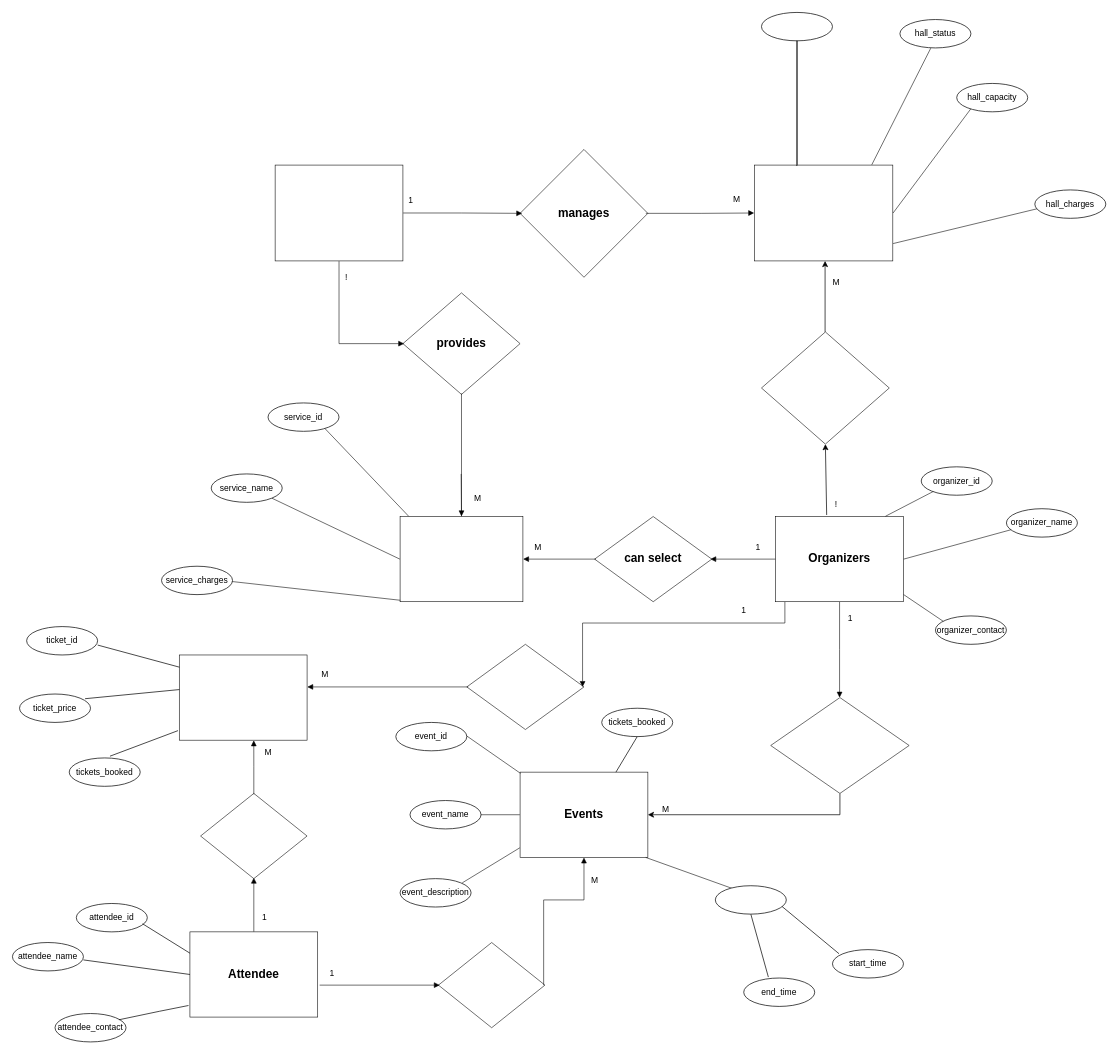
Image size: 1118x1054. Some labels were removed from this diagram. The box of each missing label's shape, as (x1, y1, x2, y2) in pixels:
Admin: (274, 164, 403, 261)
can book: (761, 331, 889, 444)
can browse: (438, 942, 545, 1028)
can buy: (200, 793, 307, 879)
can organize: (770, 697, 909, 793)
can sell: (466, 644, 584, 729)
event_time: (715, 885, 786, 914)
hall_id: (761, 12, 832, 41)
Halls: (754, 164, 893, 261)
Services: (399, 516, 523, 602)
TIckets: (179, 654, 307, 740)
